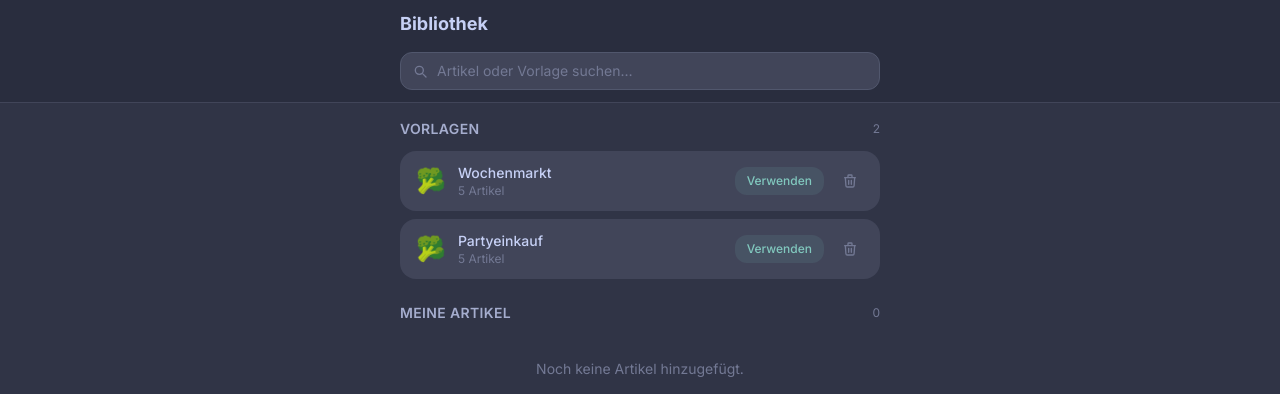
LibraryView › filters presets by search query
Type "Woche" into the search field with placeholder "Artikel oder Vorlage suchen…" at (640, 71), box [400, 52, 880, 90]
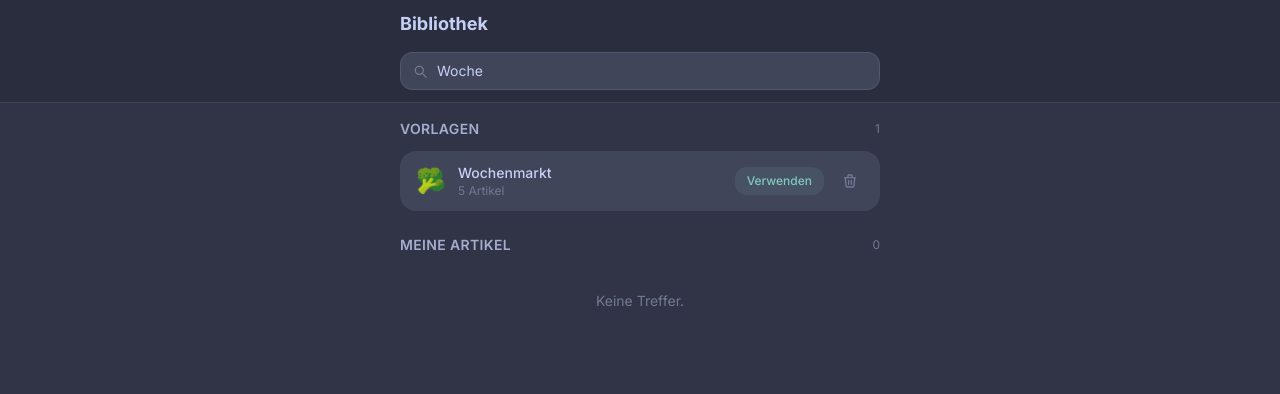
Expected: the text "Wochenmarkt" is shown, [458, 163, 552, 183]
Expected: the text "Partyeinkauf" is gone
